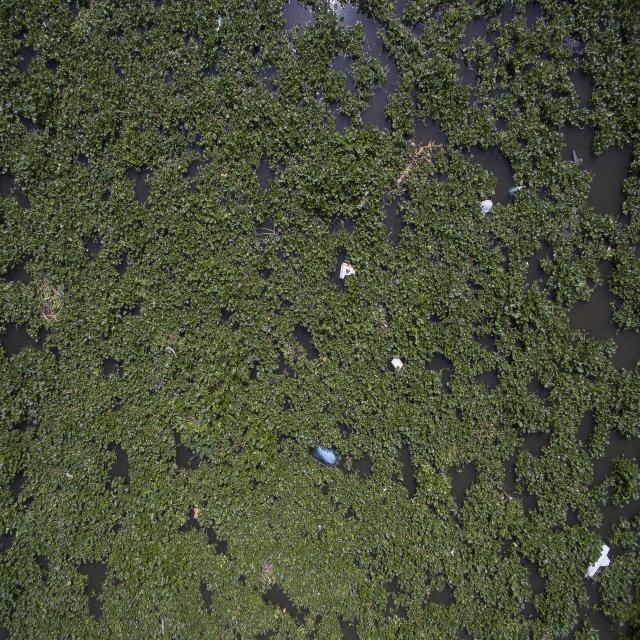plastic: (574, 532, 618, 590), (309, 432, 347, 475), (328, 253, 359, 290), (390, 350, 414, 380), (478, 192, 499, 222), (212, 8, 230, 36), (510, 182, 528, 201)
